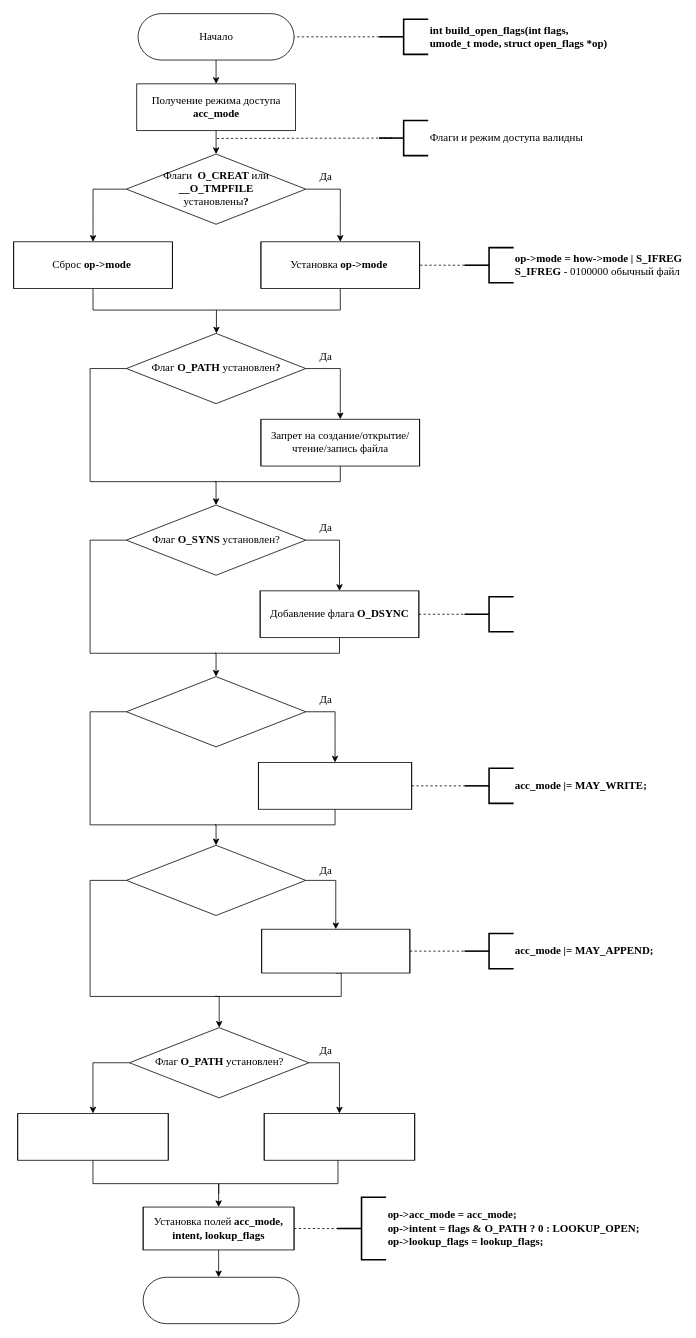
Some shapes in this 696 by 1338 pixel diagram are drawn without their labels. Here are the shapes that lost their labels. From the top down, the box of each, then its label:
(463, 596, 514, 632): flags |= O_DSYNC;
(126, 676, 306, 747): Флаг O_TRUNC установлен?
(258, 762, 412, 809): Добавление проверки на разрешение записи
(126, 845, 306, 915): Флаг O_APPEND установлен?
(261, 928, 410, 973): Добавление проверки на разрешение дозаписи
(17, 1113, 168, 1160): op->intent = LOOKUP_OPEN
(263, 1113, 415, 1160): op->intent = 0
(142, 1276, 299, 1324): Конец
